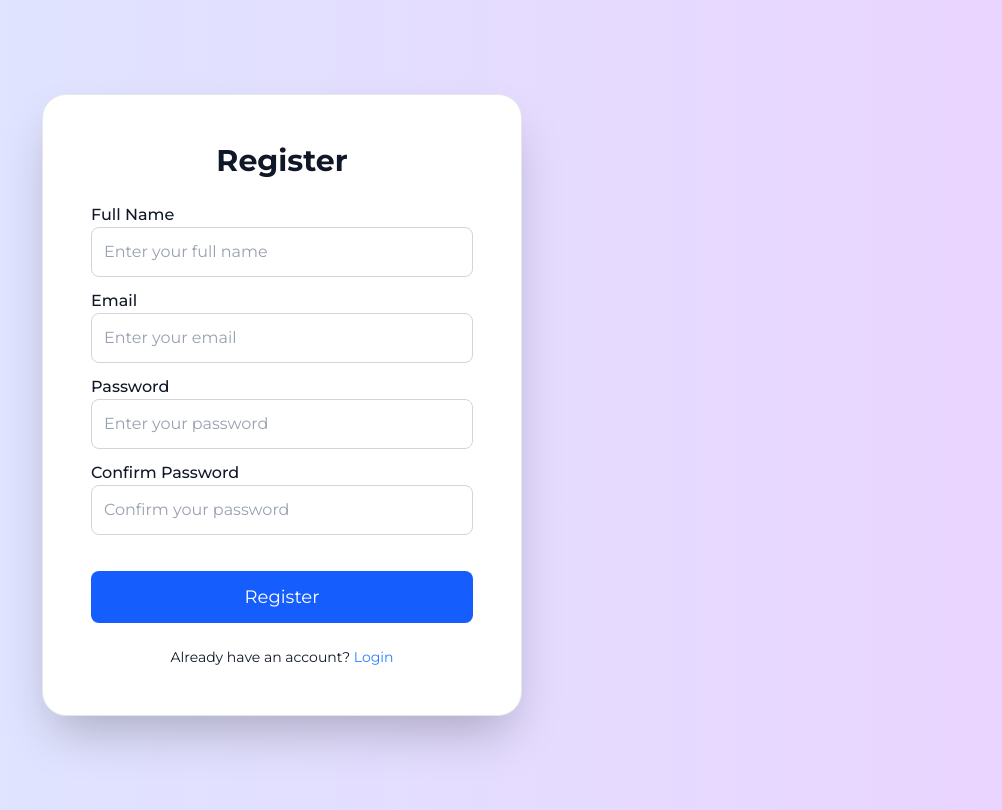
Test: RegisterPage › shows error for invalid email
Type "John Doe" into the field labelled "Full Name" at point(282, 252), box x1=91 y1=227 x2=473 y2=277
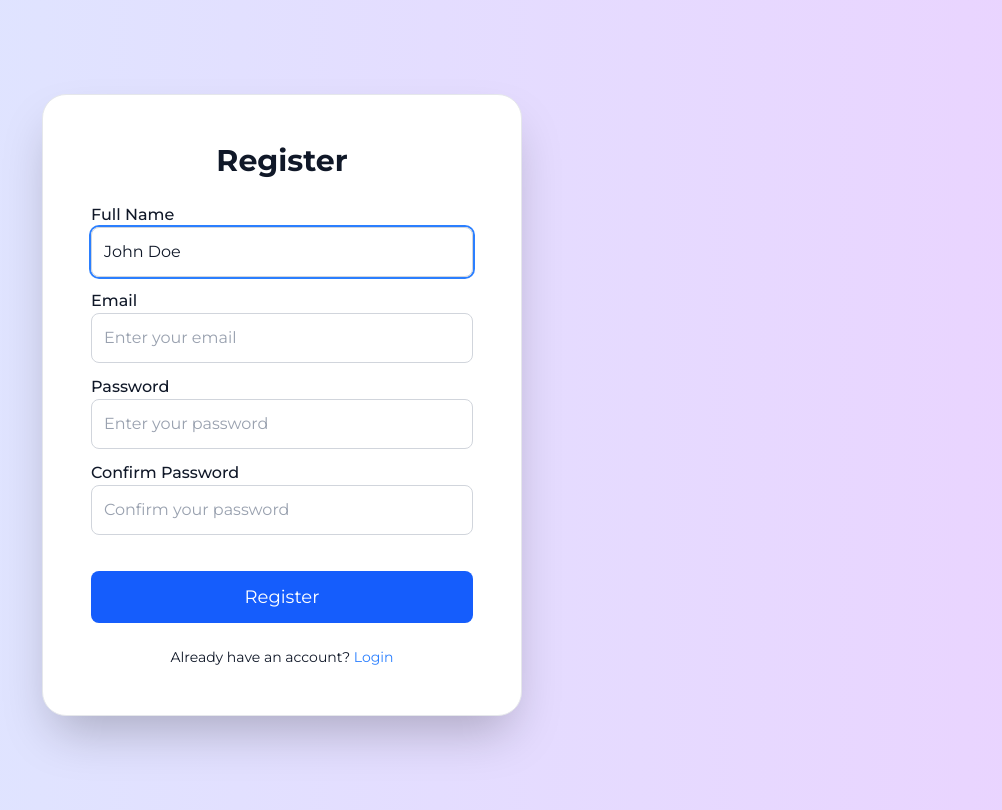
Type "invalid-email" into the field labelled "Email" at point(282, 338), box x1=91 y1=313 x2=473 y2=363
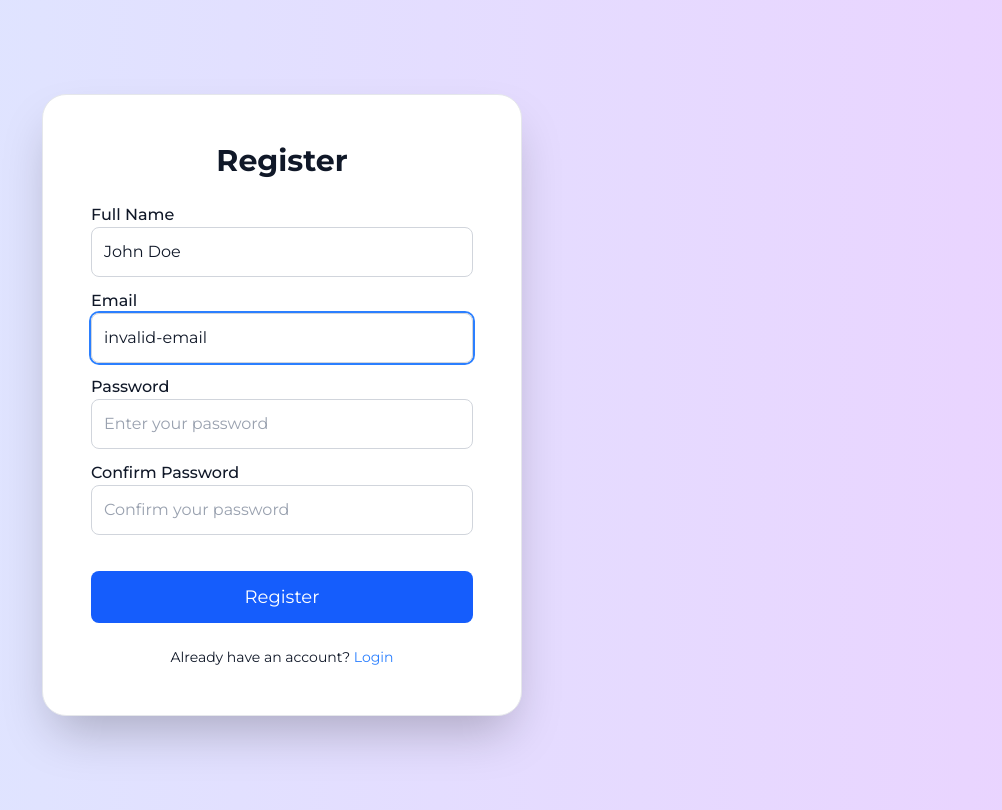
Type "password123" into the password field labelled "Password" at point(282, 424), box x1=91 y1=399 x2=473 y2=449
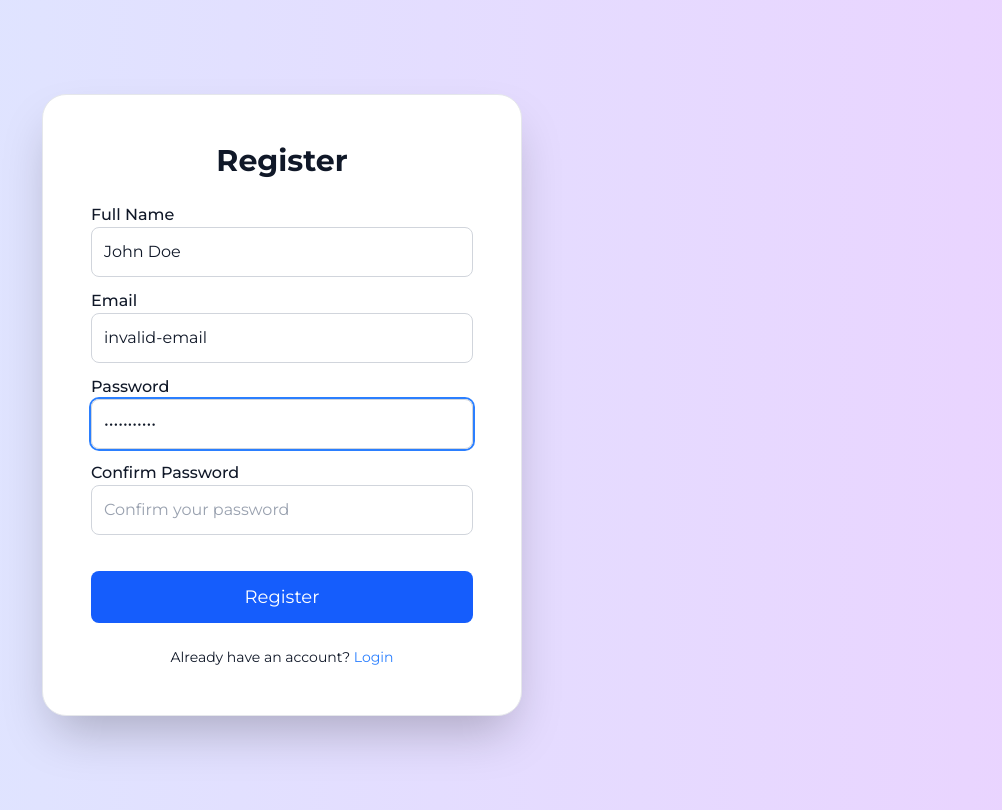
Type "password123" into the password field labelled "Confirm Password" at point(282, 510), box x1=91 y1=485 x2=473 y2=535
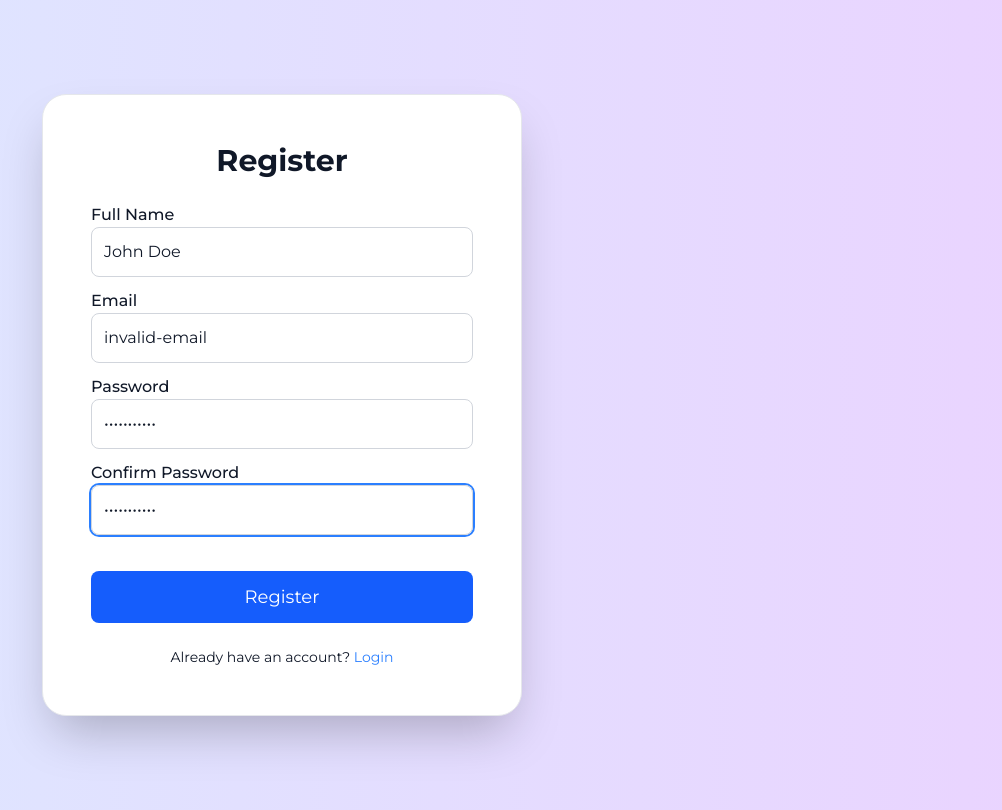
Click the button "Register" at point(282, 597), box x1=91 y1=571 x2=473 y2=623
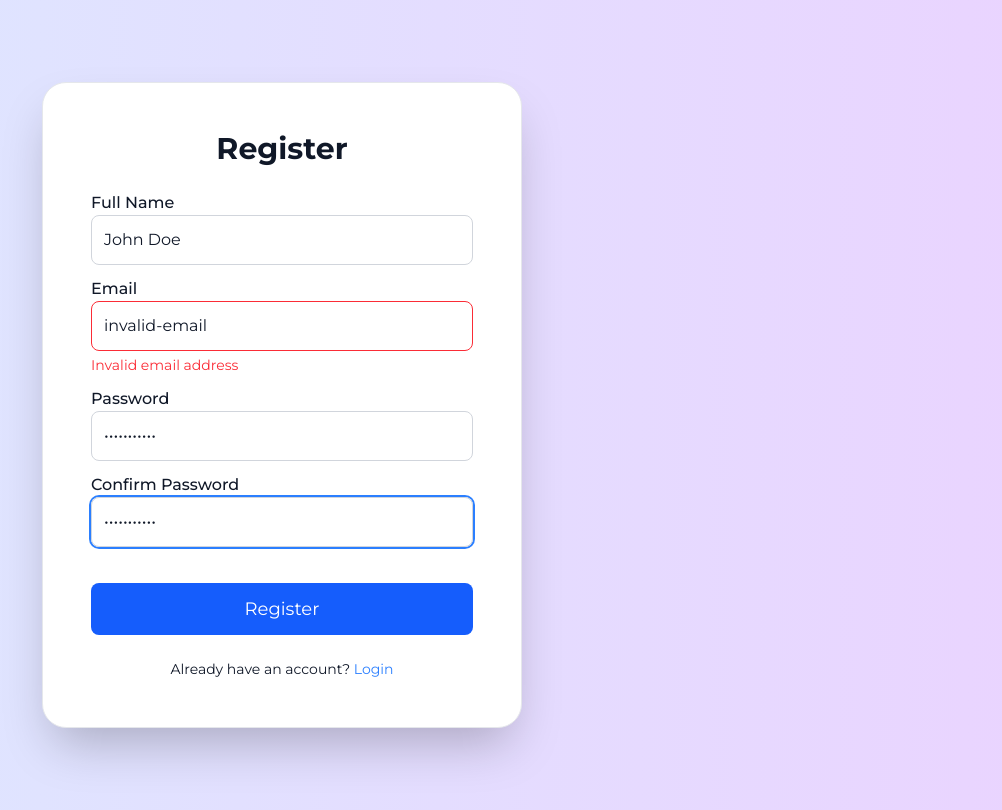
Result: the text "Invalid email address" is shown at x1=91 y1=356 x2=238 y2=374
